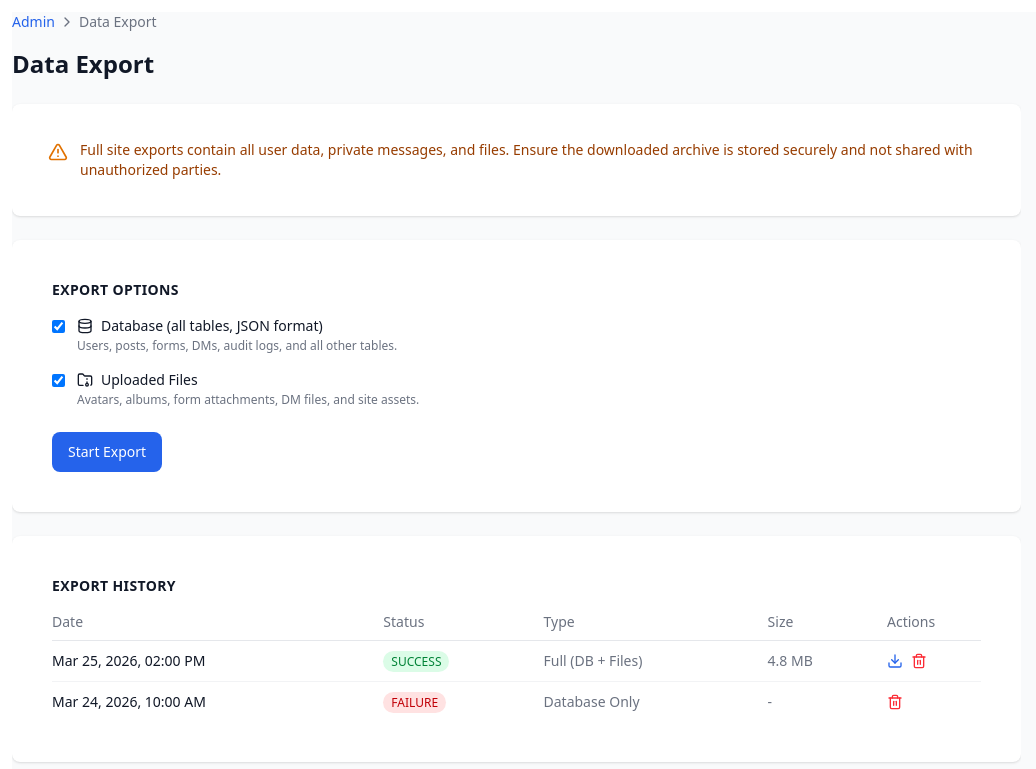
DataExportView › shows progress section after export starts
Click the button "Start Export".
click(107, 452)  # box [52,432,162,472]
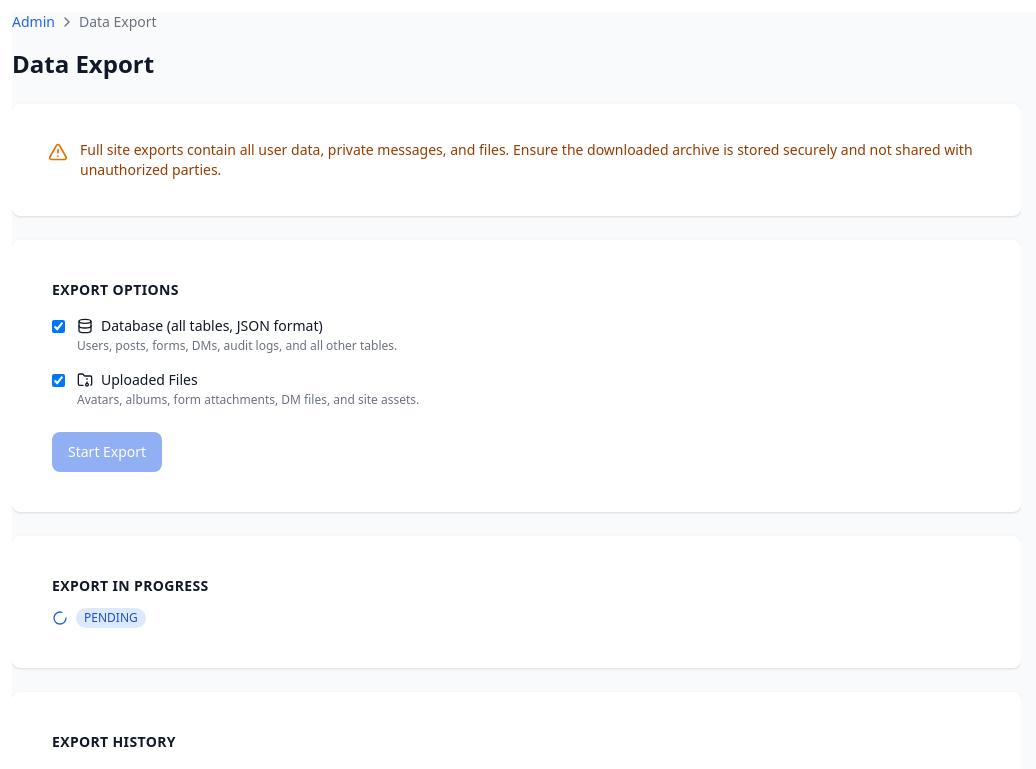
Expected: the text "PENDING" is shown, [76,608,146,628]
